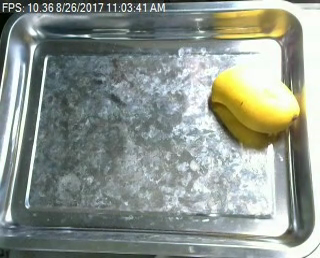Mango: (207, 60, 306, 134)
